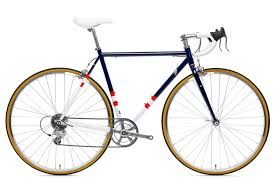bicycle: (2, 12, 271, 179)
